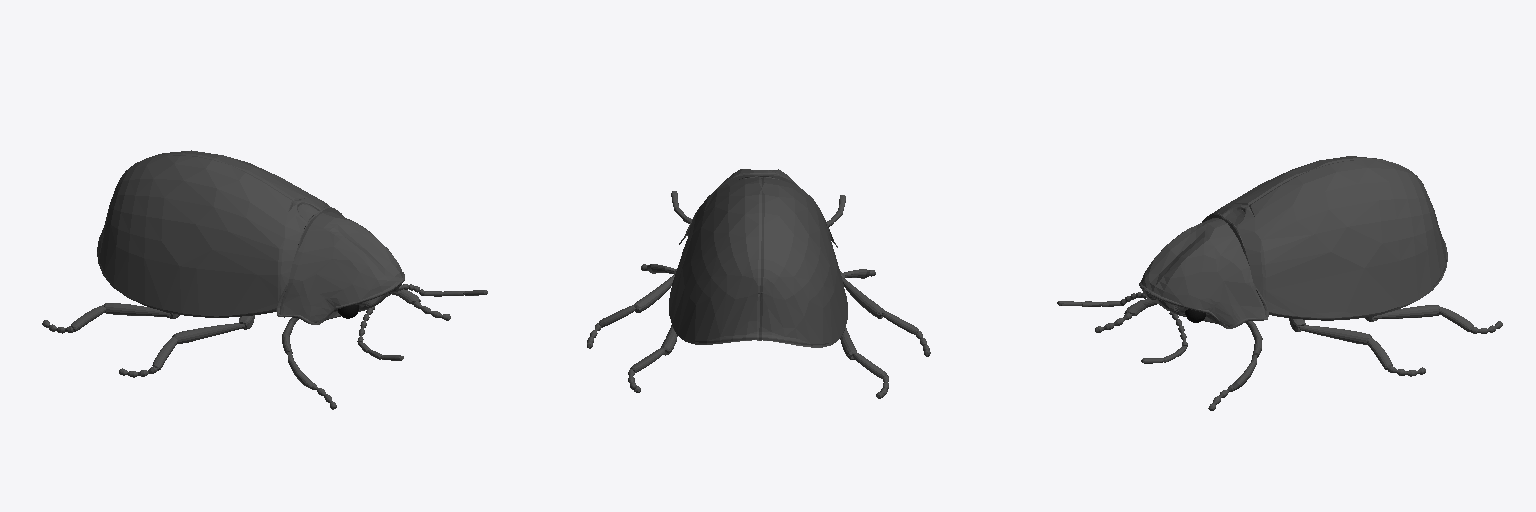
Rendered from bug.obj.
3 renders of one model, left to right at view 1: azimuth 30°, elevation 25°; view 2: azimuth 150°, elevation 25°; view 3: azimuth 270°, elevation 25°, orthographic.
Visible parts, largest first — view 1: Kaefer01; view 2: Kaefer01; view 3: Kaefer01.
Boxes of the visible parts, box(x1,y1,x2,y2) form: Kaefer01: box(42, 150, 487, 409); Kaefer01: box(587, 169, 930, 398); Kaefer01: box(1057, 156, 1502, 410).
Size of the model in its own units: 30.05 by 14.65 by 35.4.